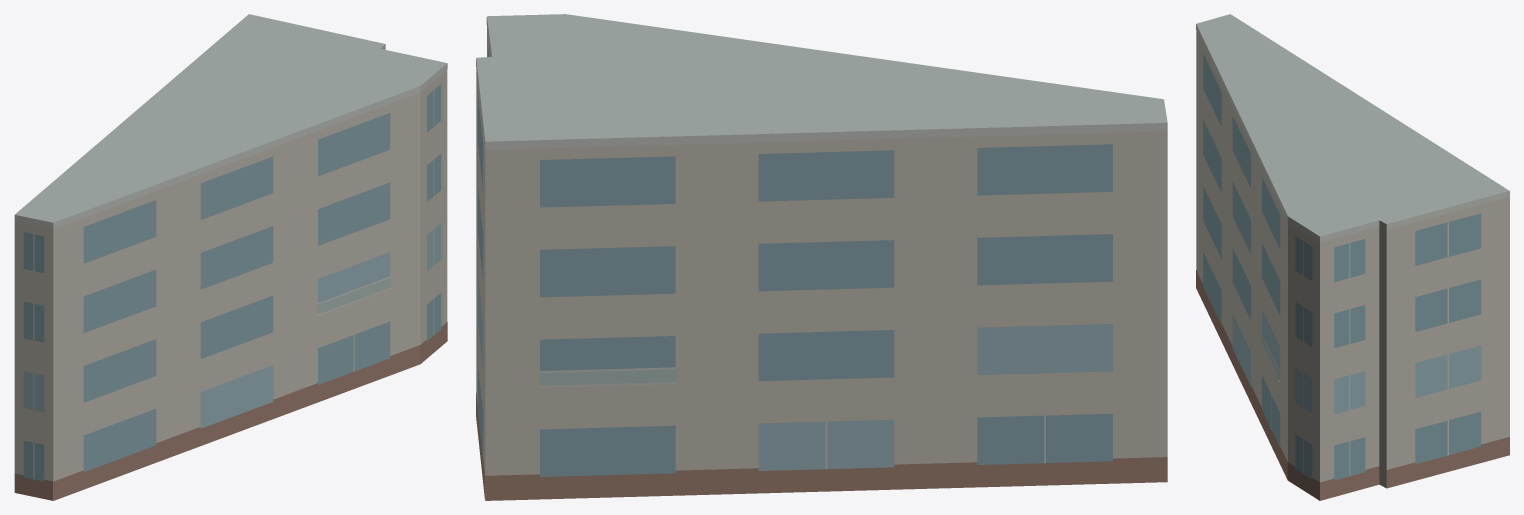
Rendered from survey-upis-32983934.glb.
3 renders of one model, left to right at view 1: azimuth 30°, elevation 25°; view 2: azimuth 150°, elevation 25°; view 3: azimuth 270°, elevation 25°, orthographic. The views are drawn at different scales.
Visible parts, largest first — view 1: survey-upis-32983934.tmp; view 2: survey-upis-32983934.tmp; view 3: survey-upis-32983934.tmp.
Part boxes in pixels (left/top/right/bottom): survey-upis-32983934.tmp: left=14, top=14, right=447, bottom=500; survey-upis-32983934.tmp: left=476, top=14, right=1167, bottom=500; survey-upis-32983934.tmp: left=1196, top=14, right=1509, bottom=500.
Bounding box in the file's own units: 18.88 × 10.45 × 11.25.
